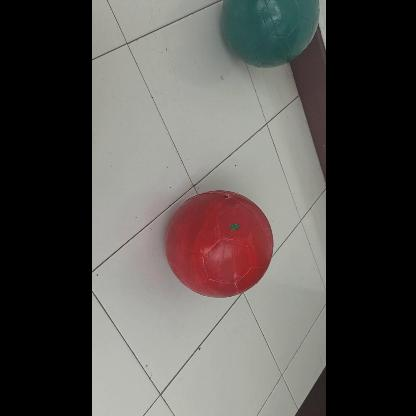red_ball: (164, 193, 270, 299)
